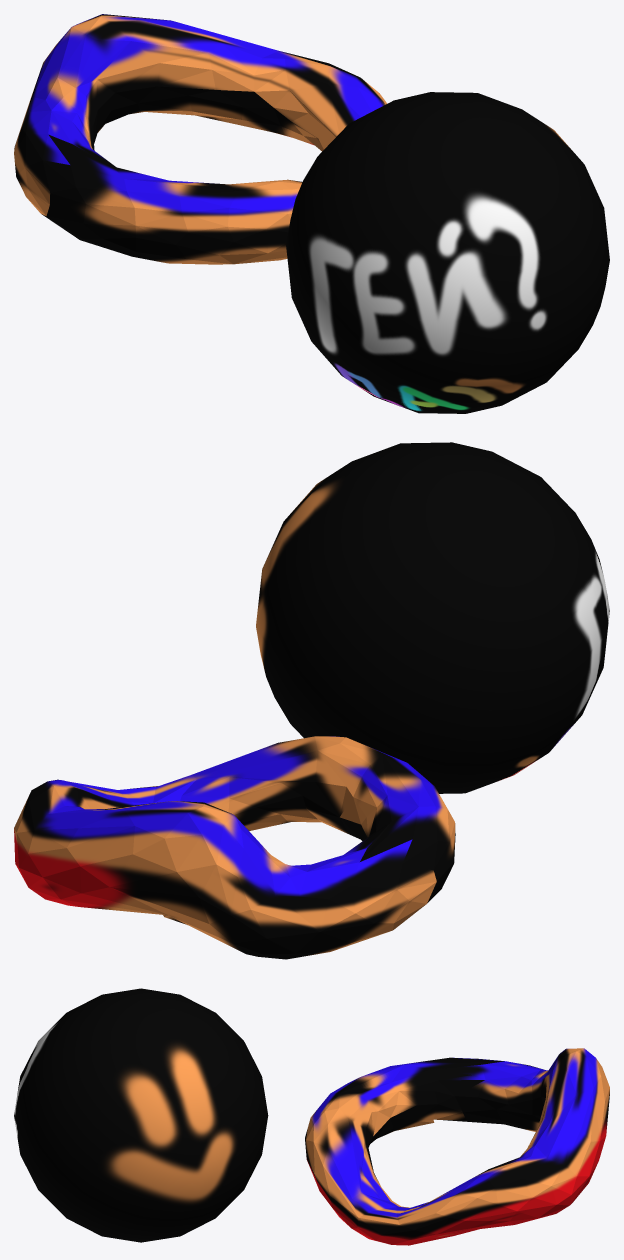
Rendered from ass.fbx.
3 views of the same model, one above another, from view 1: azimuth 30°, elevation 25°; view 2: azimuth 150°, elevation 25°; view 3: azimuth 270°, elevation 25° (orthographic). The views are drawn at different scales.
Visible parts, largest first — view 1: Icosphere, Torus; view 2: Icosphere, Torus; view 3: Icosphere, Torus.
Part boxes in pixels (x1,y1,x2,y2): Icosphere: (286,92,609,413); Torus: (14,14,387,264); Icosphere: (256,442,609,793); Torus: (14,736,455,959); Icosphere: (14,988,268,1242); Torus: (305,1048,609,1245).
Bounding box in the file's own units: 4.51 × 3.6 × 8.44.
Materials: 2 (2 with a texture image).
